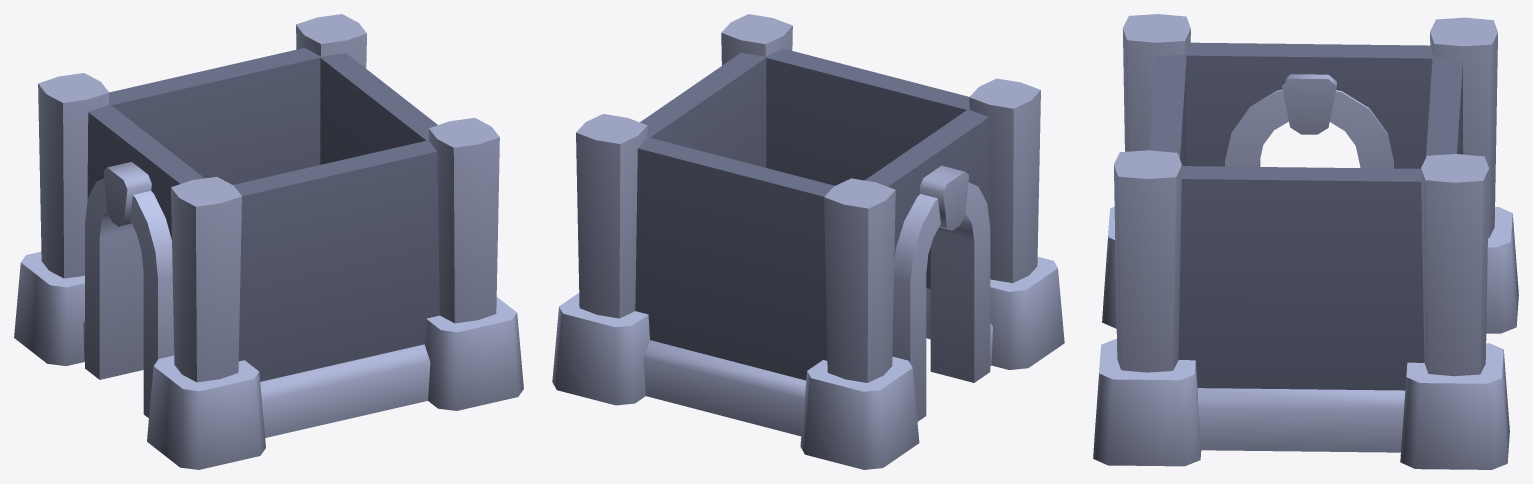
File: crypt-small.001_lev2.glb
3 renders of one model, left to right at view 1: azimuth 30°, elevation 25°; view 2: azimuth 150°, elevation 25°; view 3: azimuth 270°, elevation 25°, orthographic. The views are drawn at different scales.
Parts seen in each view (by area): view 1: crypt-small.001_lev2; view 2: crypt-small.001_lev2; view 3: crypt-small.001_lev2.
Boxes of the visible parts, box(x1,y1,x2,y2) form: crypt-small.001_lev2: box(14, 14, 523, 469); crypt-small.001_lev2: box(552, 14, 1064, 469); crypt-small.001_lev2: box(1093, 14, 1518, 469).
Bounding box in the file's own units: 11.47 × 8 × 11.08.
Materials: 1 (1 with a texture image).
